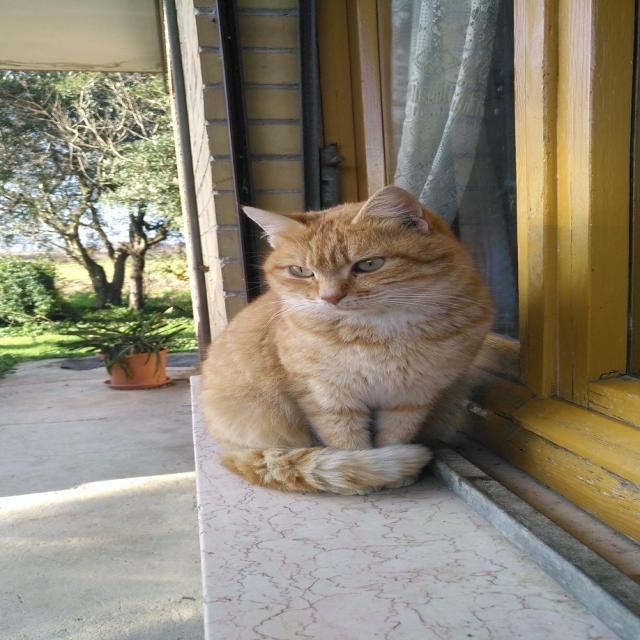sarman: (102, 131, 568, 592)
